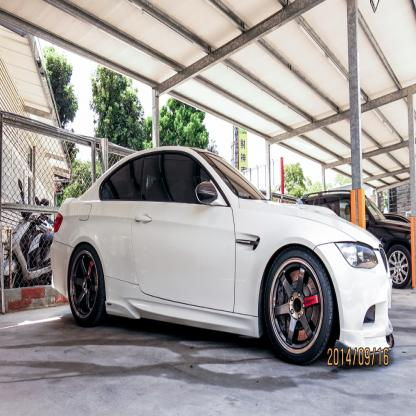Car: (51, 147, 396, 367), (297, 190, 413, 290), (368, 214, 412, 225)
